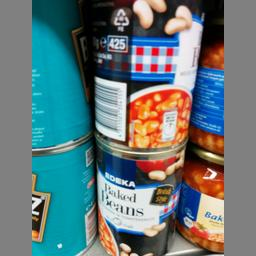beans: (94, 0, 194, 146), (89, 136, 182, 255)
